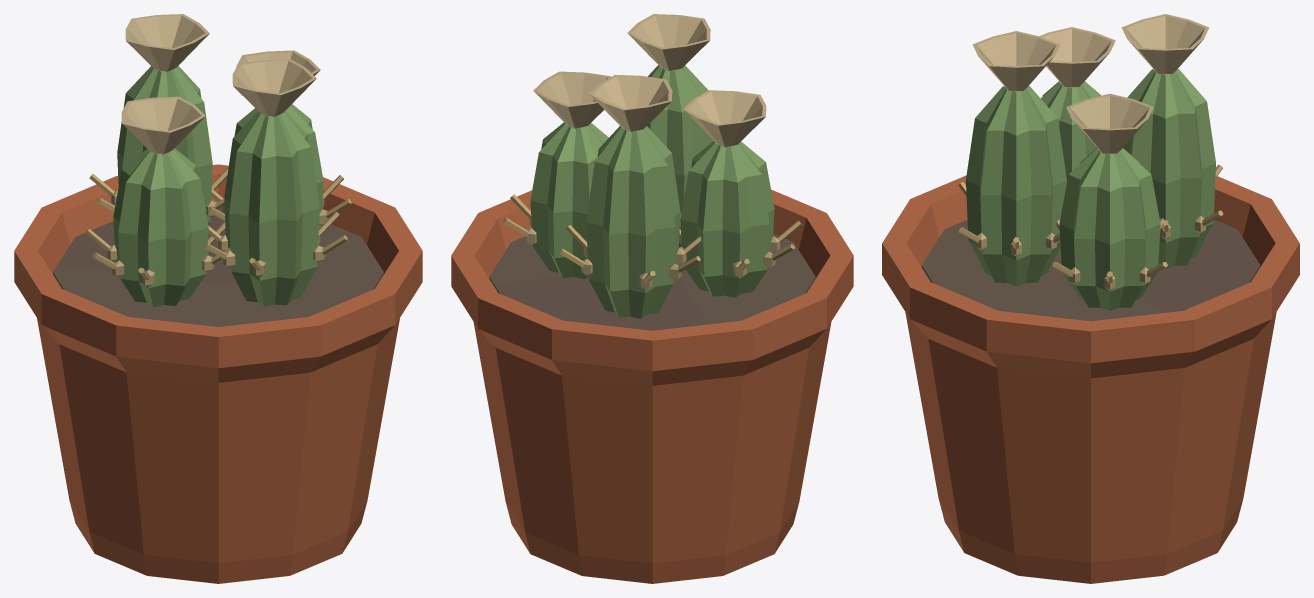
Rendered from new-chamaecereus.glb.
3 views of the same model, side by side, from view 1: azimuth 30°, elevation 25°; view 2: azimuth 150°, elevation 25°; view 3: azimuth 270°, elevation 25° (orthographic). The views are drawn at different scales.
Parts seen in each view (by area): view 1: new-chamaecereus/review-terra-vessel, new-chamaecereus/ribbed-stem-046, new-chamaecereus/review-rooted-soil, new-chamaecereus/ribbed-stem-031, new-chamaecereus/ribbed-stem-016, new-chamaecereus/hollow-corolla-029, new-chamaecereus/hollow-corolla-059, new-chamaecereus/hollow-corolla-044, new-chamaecereus/ribbed-stem-001, new-chamaecereus/hollow-corolla-014; view 2: new-chamaecereus/review-terra-vessel, new-chamaecereus/ribbed-stem-016, new-chamaecereus/review-rooted-soil, new-chamaecereus/ribbed-stem-031, new-chamaecereus/ribbed-stem-001, new-chamaecereus/ribbed-stem-046, new-chamaecereus/hollow-corolla-029, new-chamaecereus/hollow-corolla-044, new-chamaecereus/hollow-corolla-059, new-chamaecereus/hollow-corolla-014; view 3: new-chamaecereus/review-terra-vessel, new-chamaecereus/ribbed-stem-046, new-chamaecereus/review-rooted-soil, new-chamaecereus/ribbed-stem-001, new-chamaecereus/ribbed-stem-016, new-chamaecereus/hollow-corolla-014, new-chamaecereus/hollow-corolla-029, new-chamaecereus/hollow-corolla-059, new-chamaecereus/hollow-corolla-044, new-chamaecereus/ribbed-stem-031.
Boxes of the visible parts, box(x1,y1,x2,y2) form: new-chamaecereus/review-terra-vessel: box(14, 164, 422, 583); new-chamaecereus/ribbed-stem-046: box(224, 111, 319, 306); new-chamaecereus/review-rooted-soil: box(53, 207, 383, 326); new-chamaecereus/ribbed-stem-031: box(113, 148, 208, 307); new-chamaecereus/ribbed-stem-016: box(117, 66, 212, 224); new-chamaecereus/hollow-corolla-029: box(125, 14, 209, 71); new-chamaecereus/hollow-corolla-059: box(232, 59, 316, 116); new-chamaecereus/hollow-corolla-044: box(121, 96, 205, 154); new-chamaecereus/ribbed-stem-001: box(234, 104, 323, 228); new-chamaecereus/hollow-corolla-014: box(236, 50, 320, 75); new-chamaecereus/review-terra-vessel: box(451, 189, 853, 583); new-chamaecereus/ribbed-stem-016: box(586, 126, 680, 318); new-chamaecereus/review-rooted-soil: box(489, 233, 815, 330); new-chamaecereus/ribbed-stem-031: box(680, 141, 774, 297); new-chamaecereus/ribbed-stem-001: box(530, 122, 608, 278); new-chamaecereus/ribbed-stem-046: box(647, 65, 713, 247); new-chamaecereus/hollow-corolla-029: box(589, 74, 672, 131); new-chamaecereus/hollow-corolla-044: box(683, 90, 766, 147); new-chamaecereus/hollow-corolla-059: box(627, 14, 710, 71); new-chamaecereus/hollow-corolla-014: box(533, 71, 610, 128); new-chamaecereus/review-terra-vessel: box(882, 175, 1299, 583); new-chamaecereus/ribbed-stem-046: box(966, 86, 1066, 286); new-chamaecereus/review-rooted-soil: box(921, 219, 1260, 321); new-chamaecereus/ribbed-stem-001: box(1059, 148, 1160, 310); new-chamaecereus/ribbed-stem-016: box(1123, 69, 1215, 269); new-chamaecereus/hollow-corolla-014: box(1066, 93, 1153, 153); new-chamaecereus/hollow-corolla-029: box(1121, 14, 1209, 73); new-chamaecereus/hollow-corolla-059: box(972, 31, 1060, 90); new-chamaecereus/hollow-corolla-044: box(1039, 27, 1115, 86); new-chamaecereus/ribbed-stem-031: box(1041, 81, 1100, 181).
Size of the model in its own units: 0.19 by 0.241 by 0.19.
Materials: 7 (7 with a texture image).
